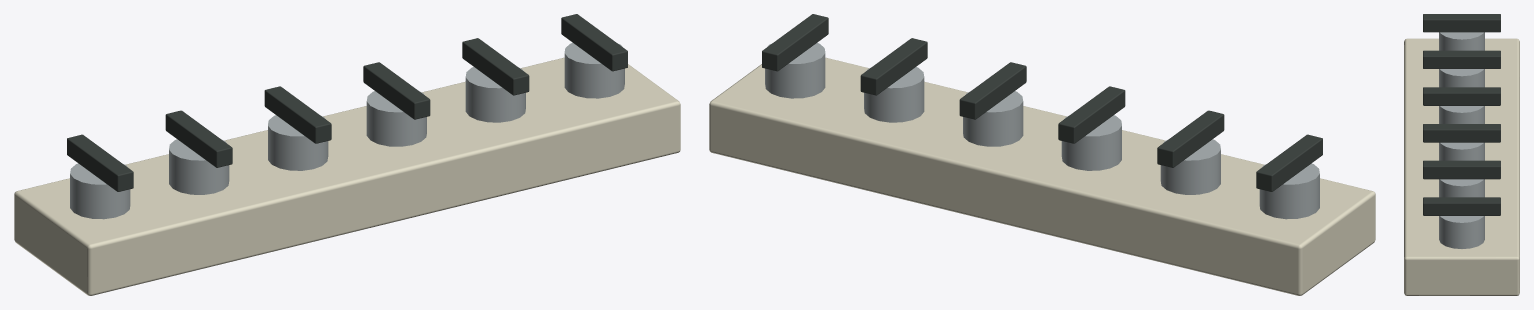
The model's file is off-grid-power-and-controls-terminal-strip-c116e3a0__3005.glb.
The picture shows the model from 3 angles, left to right: view 1: azimuth 30°, elevation 25°; view 2: azimuth 150°, elevation 25°; view 3: azimuth 270°, elevation 25°; orthographic projection. The views are drawn at different scales.
Visible parts, largest first — view 1: terminal-strip; view 2: terminal-strip; view 3: terminal-strip.
Boxes of the visible parts, left/top/right/bottom form: terminal-strip: left=14, top=14, right=680, bottom=295; terminal-strip: left=709, top=14, right=1375, bottom=295; terminal-strip: left=1404, top=14, right=1519, bottom=295.
Bounding box in the file's own units: 0.18 × 0.03 × 0.04.
